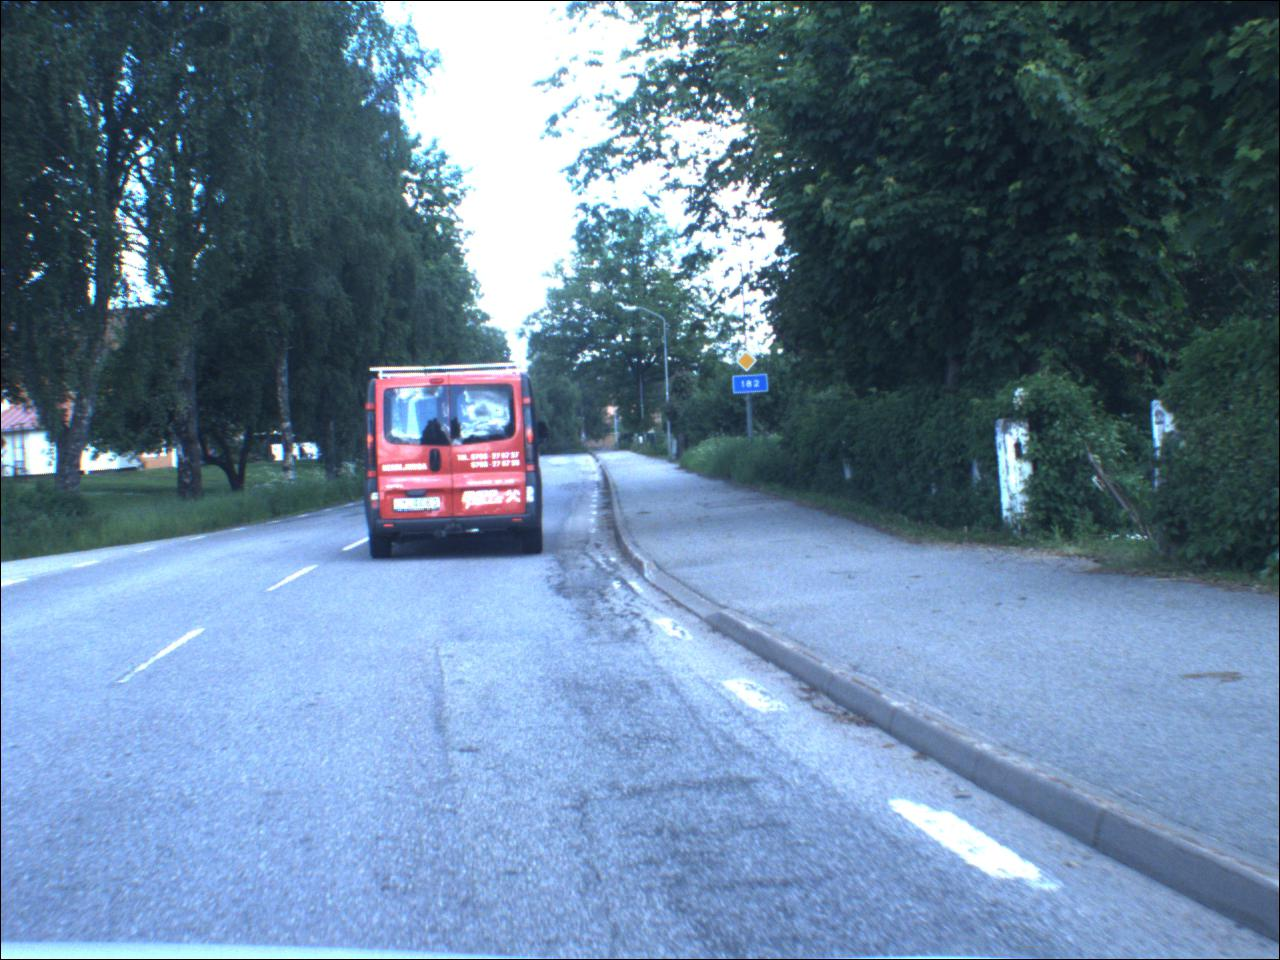PRIORITY_ROAD: (738, 352, 761, 375)
